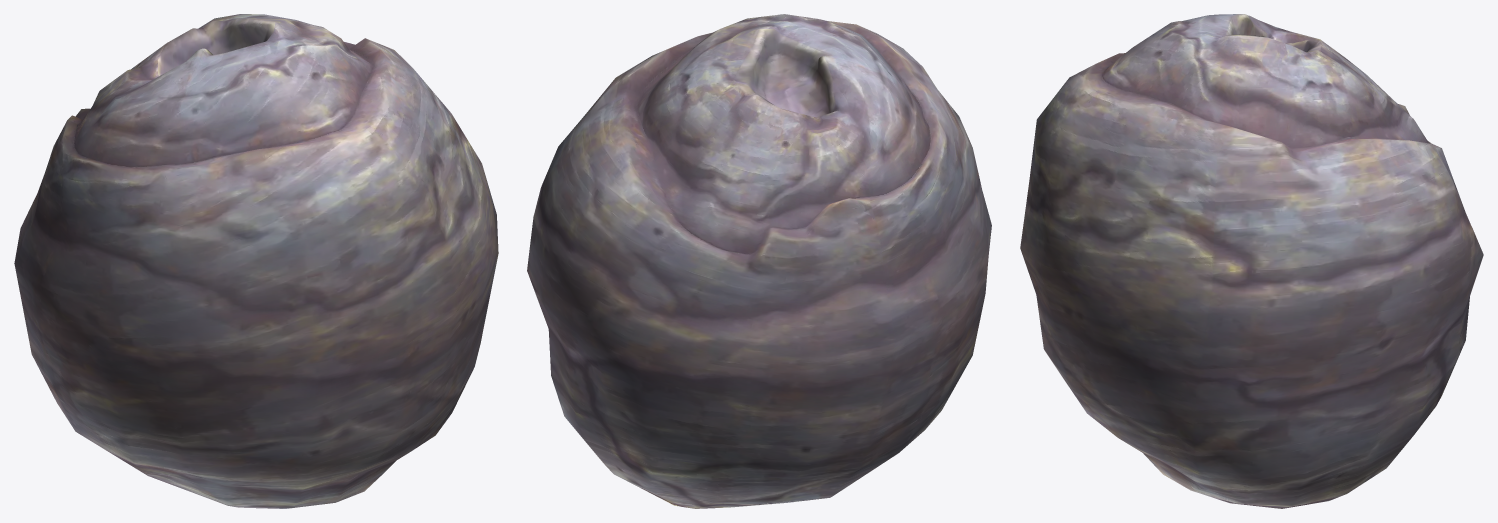
3 views of the same model, side by side, from view 1: azimuth 30°, elevation 25°; view 2: azimuth 150°, elevation 25°; view 3: azimuth 270°, elevation 25° (orthographic). The views are drawn at different scales.
Visible parts, largest first — view 1: SM_Kalphite_Nest_Decorative_02_LOD0; view 2: SM_Kalphite_Nest_Decorative_02_LOD0; view 3: SM_Kalphite_Nest_Decorative_02_LOD0.
Boxes of the visible parts, x1=… form: SM_Kalphite_Nest_Decorative_02_LOD0: x1=14, y1=14, x2=498, y2=508; SM_Kalphite_Nest_Decorative_02_LOD0: x1=527, y1=14, x2=991, y2=508; SM_Kalphite_Nest_Decorative_02_LOD0: x1=1020, y1=14, x2=1483, y2=508.
Bounding box in the file's own units: 1.06 × 1.11 × 1.07.
Materials: 1 (1 with a texture image).
